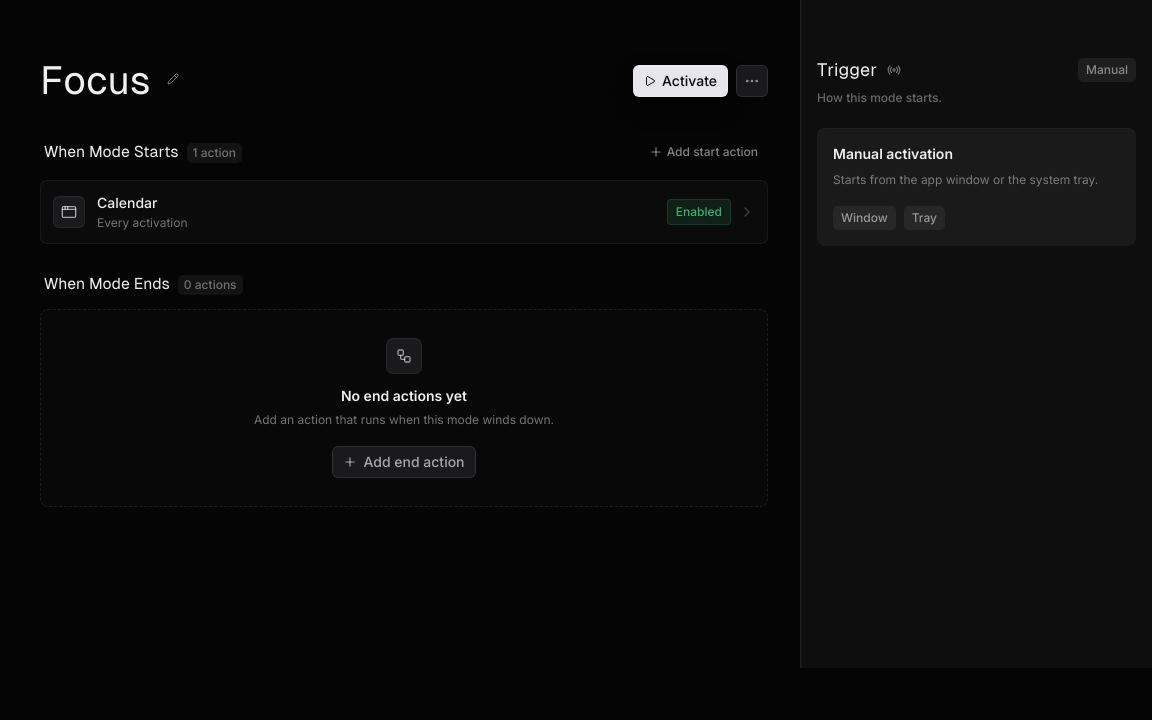
Test: ModeDetailPage › blocks saving a duplicate app in the same phase
Click the button "Add start action". click: (703, 152)
box: [643,138,764,166]
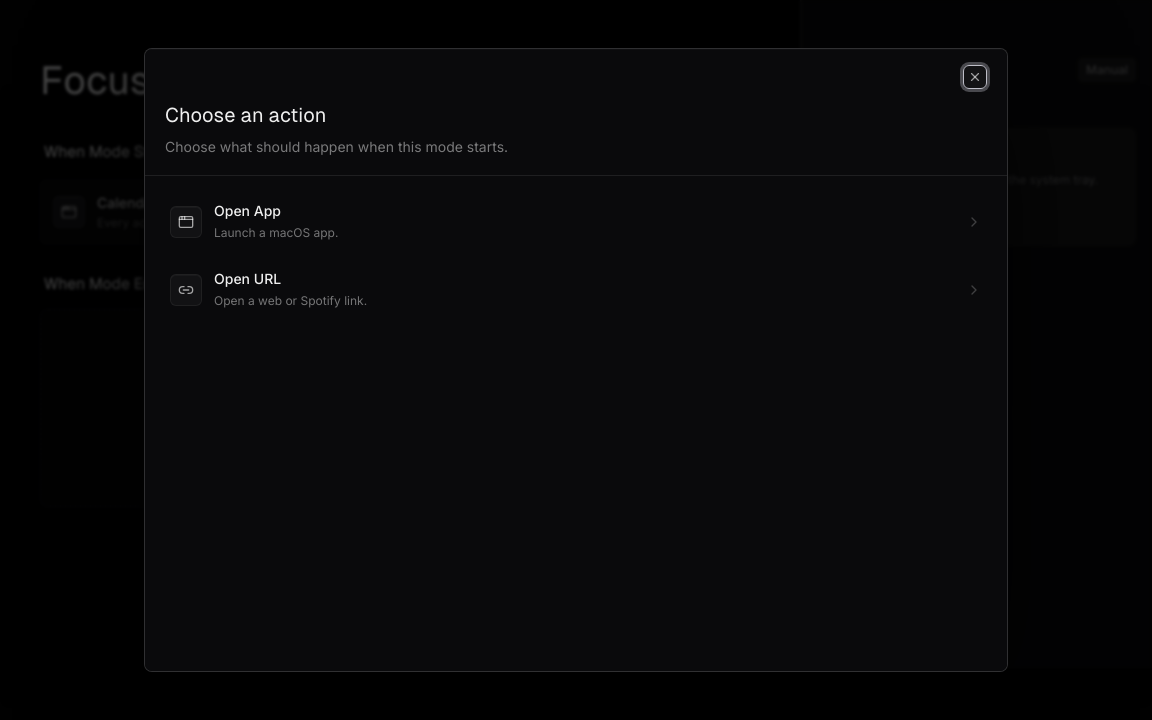
Click the button "Open App Launch a macOS app.". click: (186, 222)
box: [157,188,995,256]
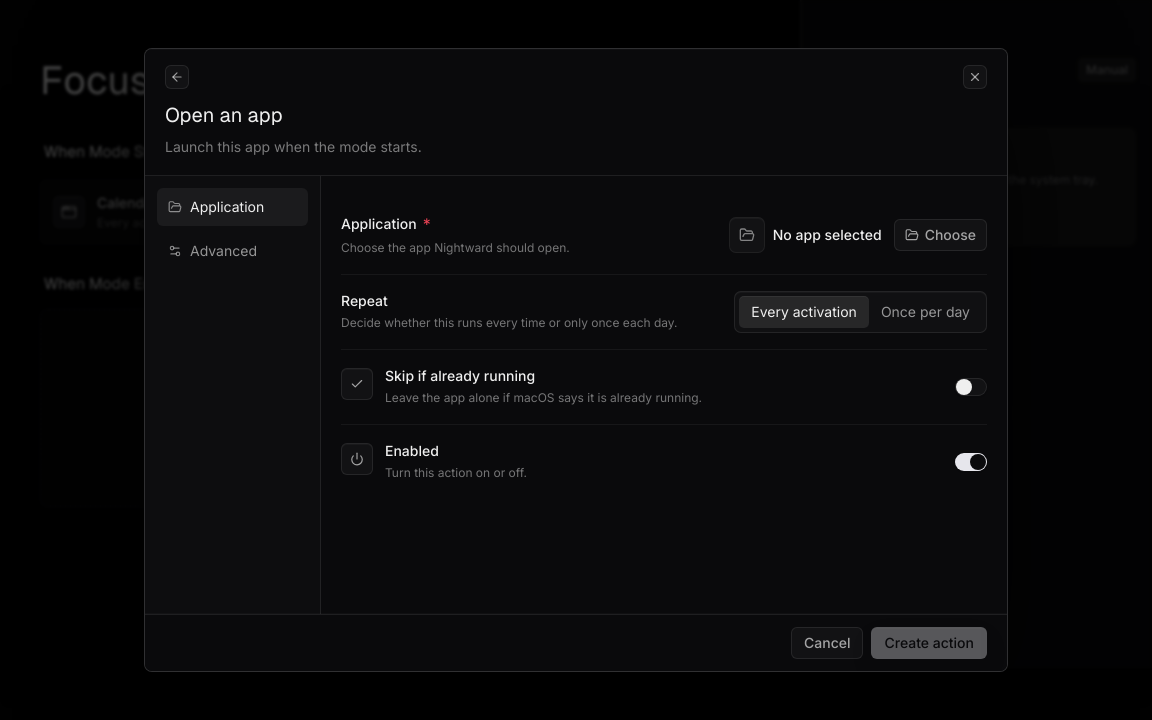
Click the button "Choose". click: (940, 235)
box: [894,219,987,251]
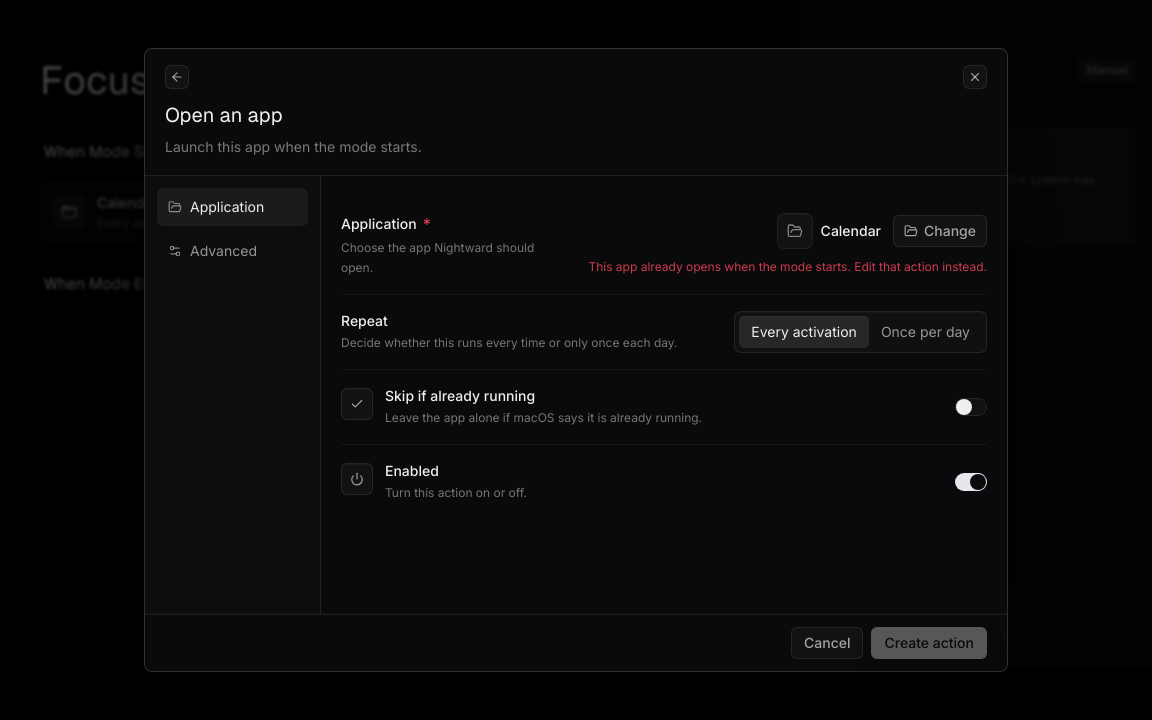
Expected: the button "Create action" is disabled, [872,627,987,659]
Expected: the text "This app already opens when the mode starts. Edit that action instead." is shown, [588,257,987,277]
